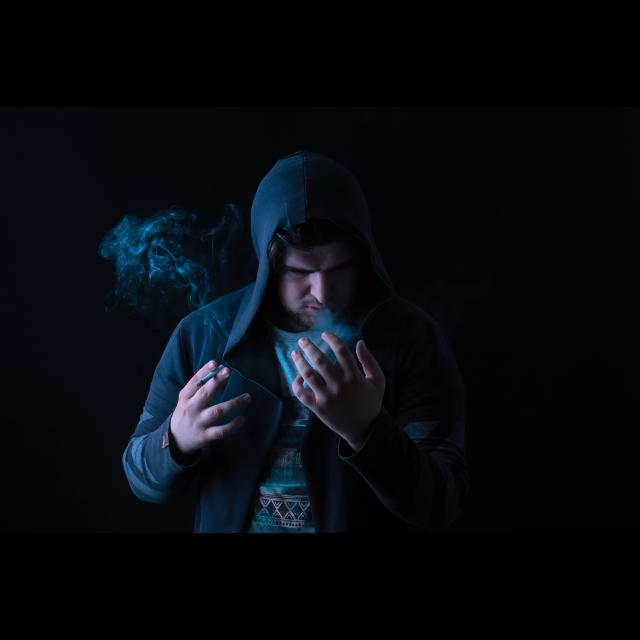rokok: (195, 364, 227, 386)
